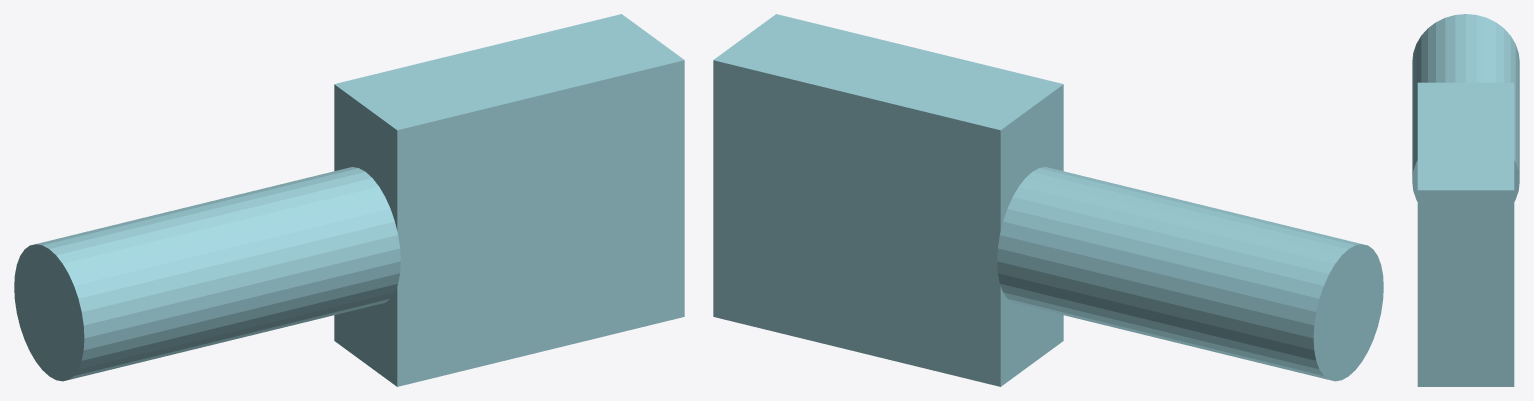
File: cylinder_brush_v11012.obj
The picture shows the model from 3 angles, left to right: view 1: azimuth 30°, elevation 25°; view 2: azimuth 150°, elevation 25°; view 3: azimuth 270°, elevation 25°; orthographic projection. The views are drawn at different scales.
Bounding box in the file's own units: 0.2109 × 0.0856 × 0.0425.
1 material, 1 textured.
